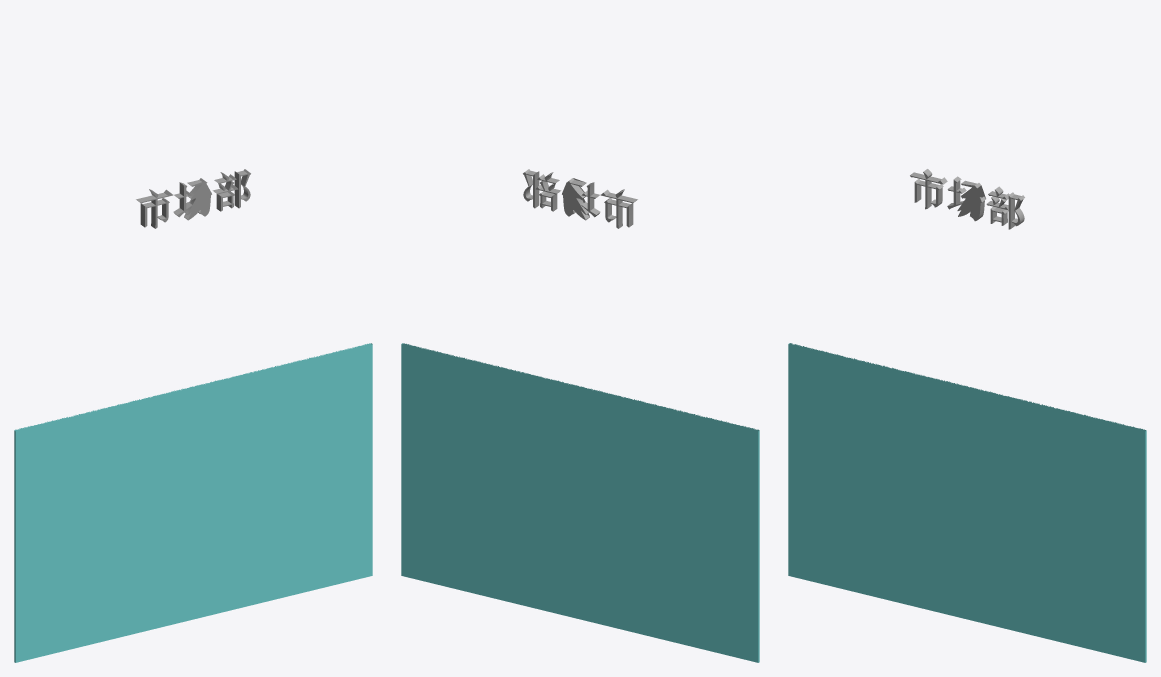
The model's file is qiang_shichang.fbx.
3 views of the same model, side by side, from view 1: azimuth 30°, elevation 25°; view 2: azimuth 150°, elevation 25°; view 3: azimuth 330°, elevation 25° (orthographic).
Visible parts, largest first — view 1: typeMesh7; view 2: typeMesh7; view 3: typeMesh7.
Part boxes in pixels (left/top/right/bottom): typeMesh7: left=14, top=169, right=372, bottom=662; typeMesh7: left=401, top=169, right=759, bottom=662; typeMesh7: left=788, top=169, right=1146, bottom=662.
Size of the model in its own units: 120 by 180 by 2.5.
